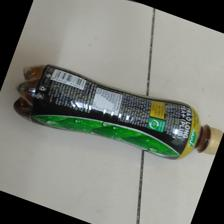Olong: (9, 63, 224, 161)
